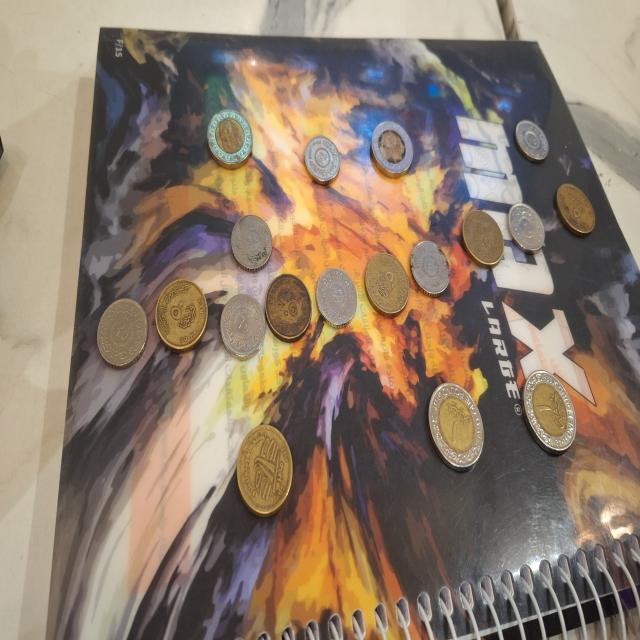Half Pound: (234, 420, 298, 518), (153, 274, 212, 354), (363, 247, 413, 325), (267, 270, 315, 344), (458, 205, 504, 268), (554, 180, 598, 240)
One Pound: (425, 378, 489, 473), (525, 364, 580, 460), (202, 108, 258, 171), (369, 120, 419, 180)
quarter pound: (94, 293, 148, 374), (217, 288, 271, 367), (314, 254, 362, 337), (228, 208, 276, 276), (406, 235, 454, 303), (504, 199, 550, 261), (302, 132, 344, 184), (513, 113, 550, 169)
